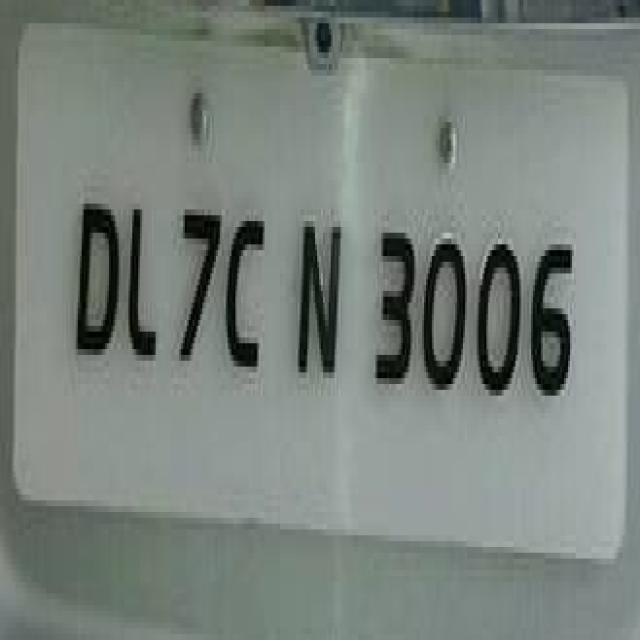license_plate: (0, 18, 613, 570)
